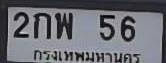2: (13, 11, 28, 37)
5: (99, 14, 114, 40)
6: (120, 15, 134, 41)
A01: (33, 11, 50, 38)
A30: (54, 12, 72, 38)
BKK: (30, 46, 142, 63)
